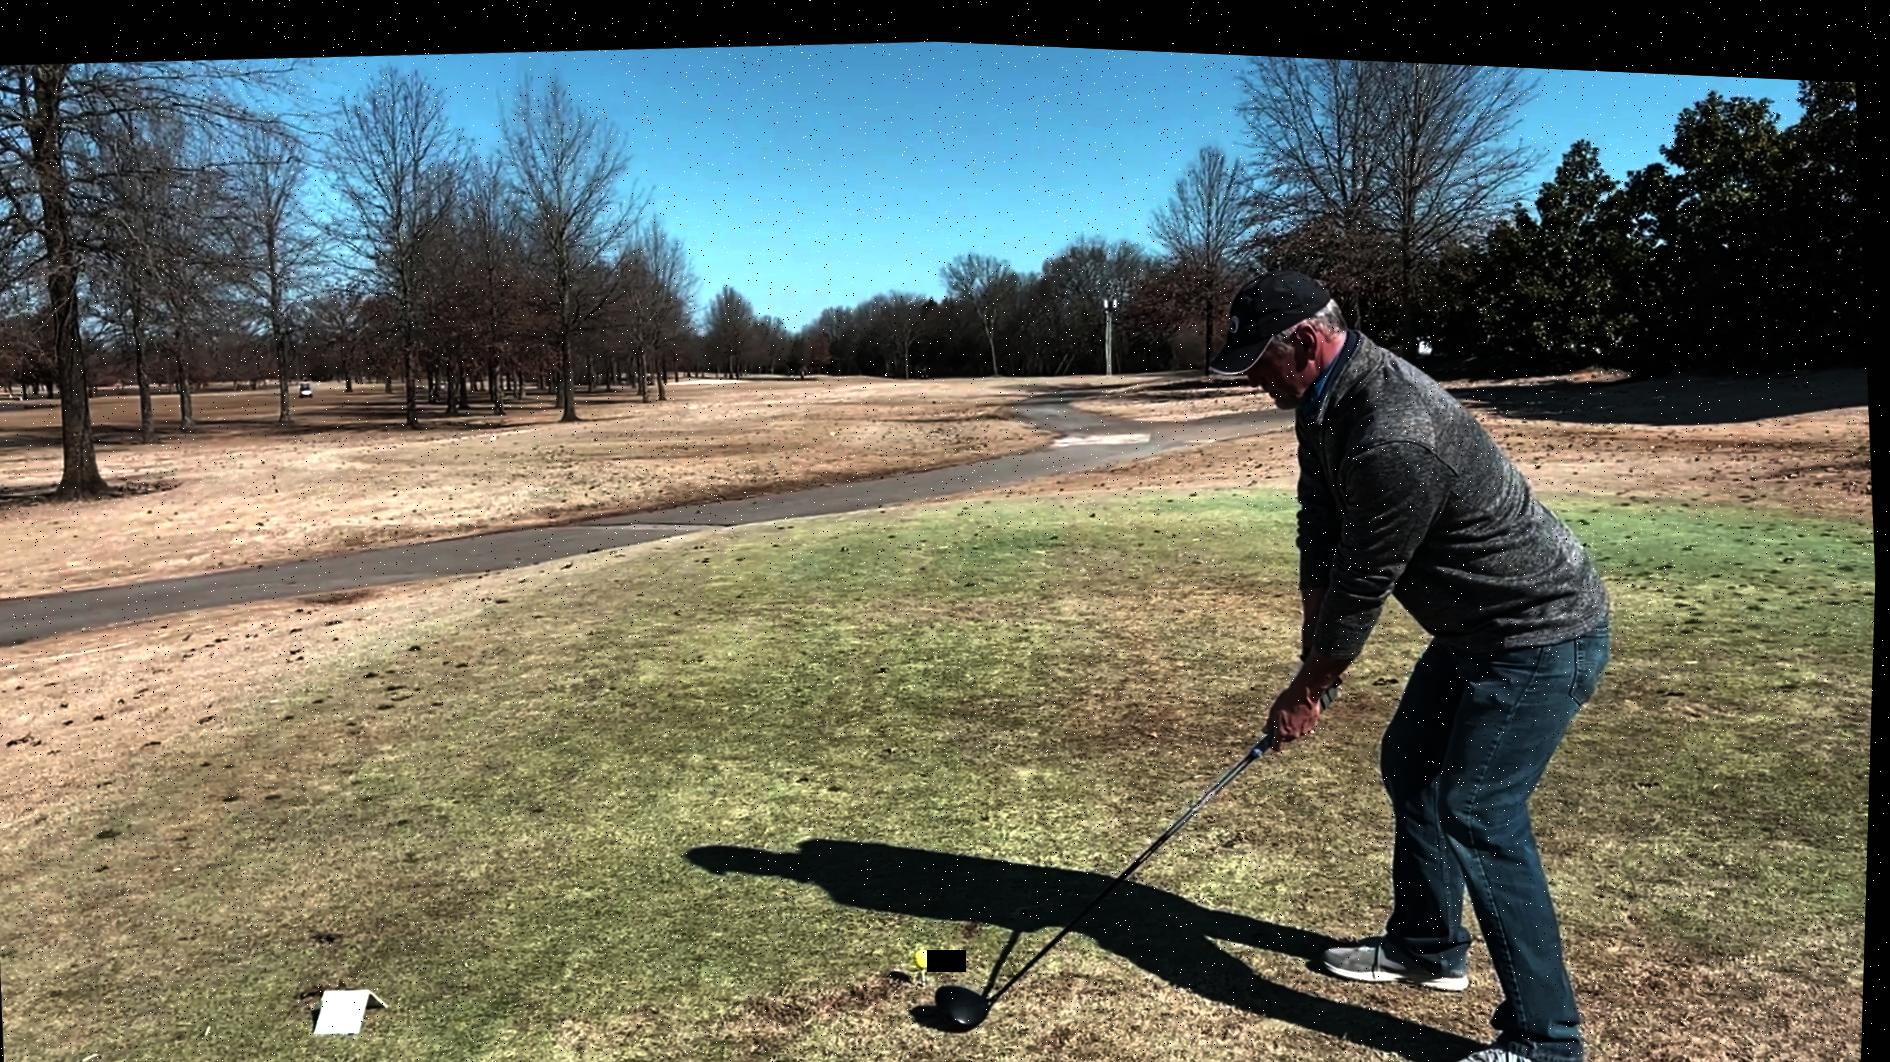ClubHead: (926, 958, 1019, 1032)
GolfBall: (918, 937, 940, 961)
